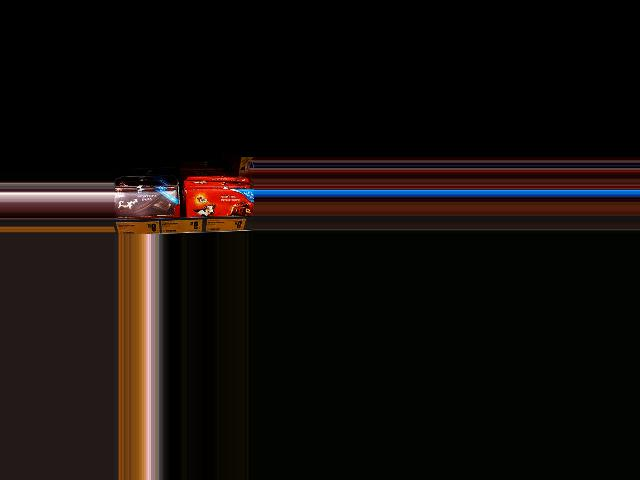chocolate: (113, 186, 173, 224)
